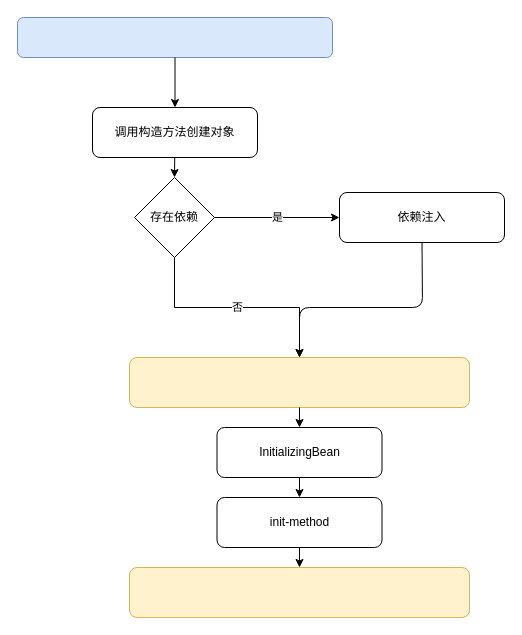
Image size: 522x635. Some labels were removed from this diagram. The centre of each missing label's shape, as x and y in pixels:
<bean id="user" class="com.dreams.test.User">: [174,37]
BeanPostProcessor.postProcessAfterInitiallization(): [299,592]
BeanPostProcessor.postProcessBeforeInitiallization(): [299,382]
